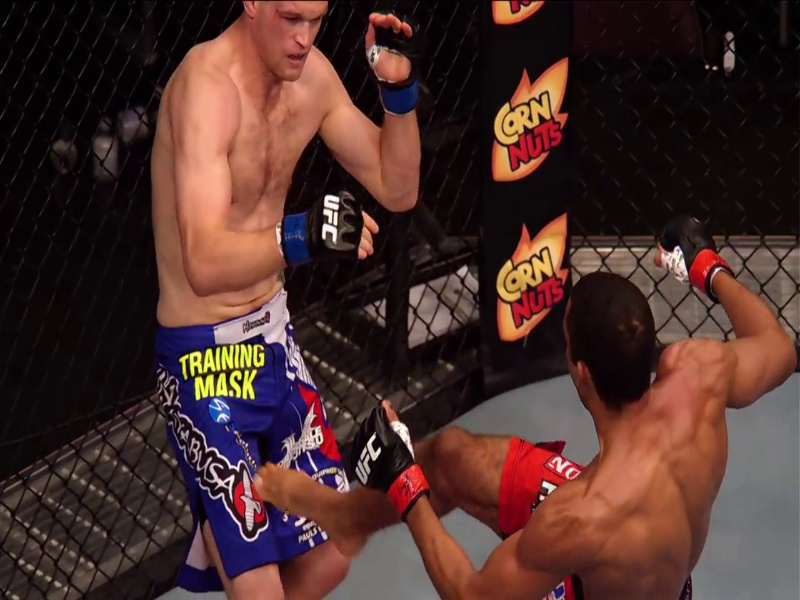fighter: (134, 3, 426, 600), (352, 211, 800, 593)
